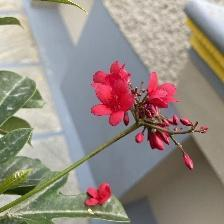jatropha: (92, 79, 139, 130)
